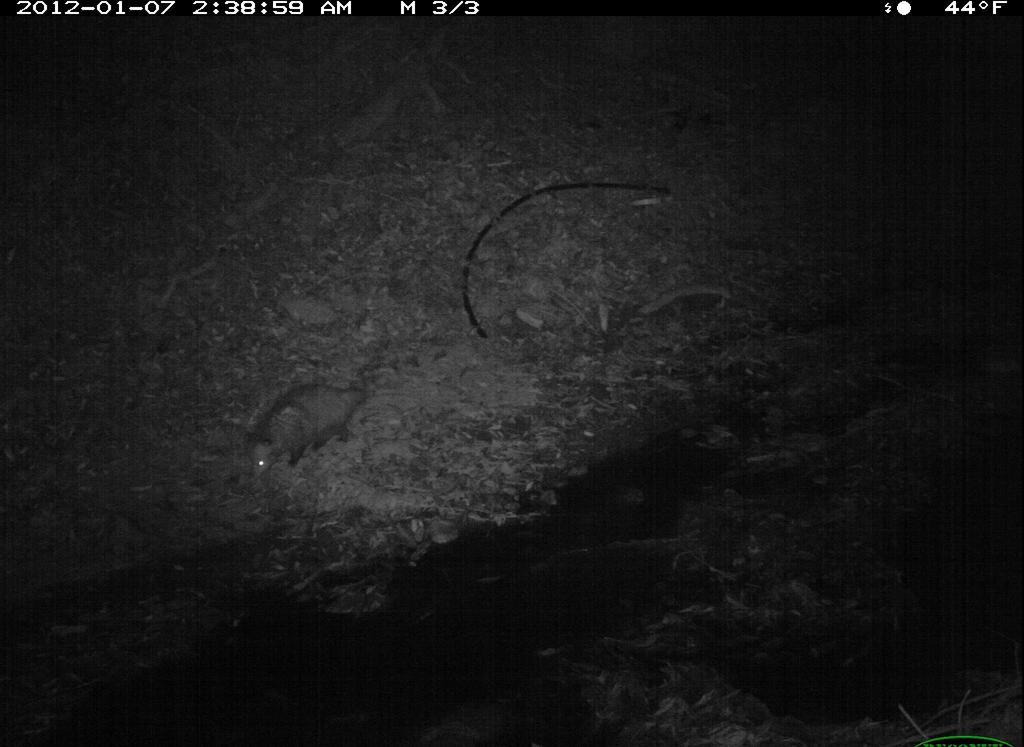opossum: (242, 370, 377, 487)
